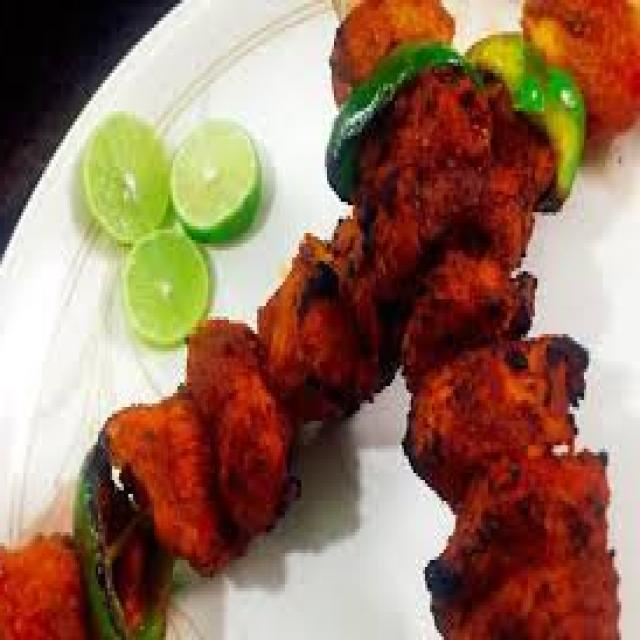Chicken Tikka: (0, 1, 638, 640)
